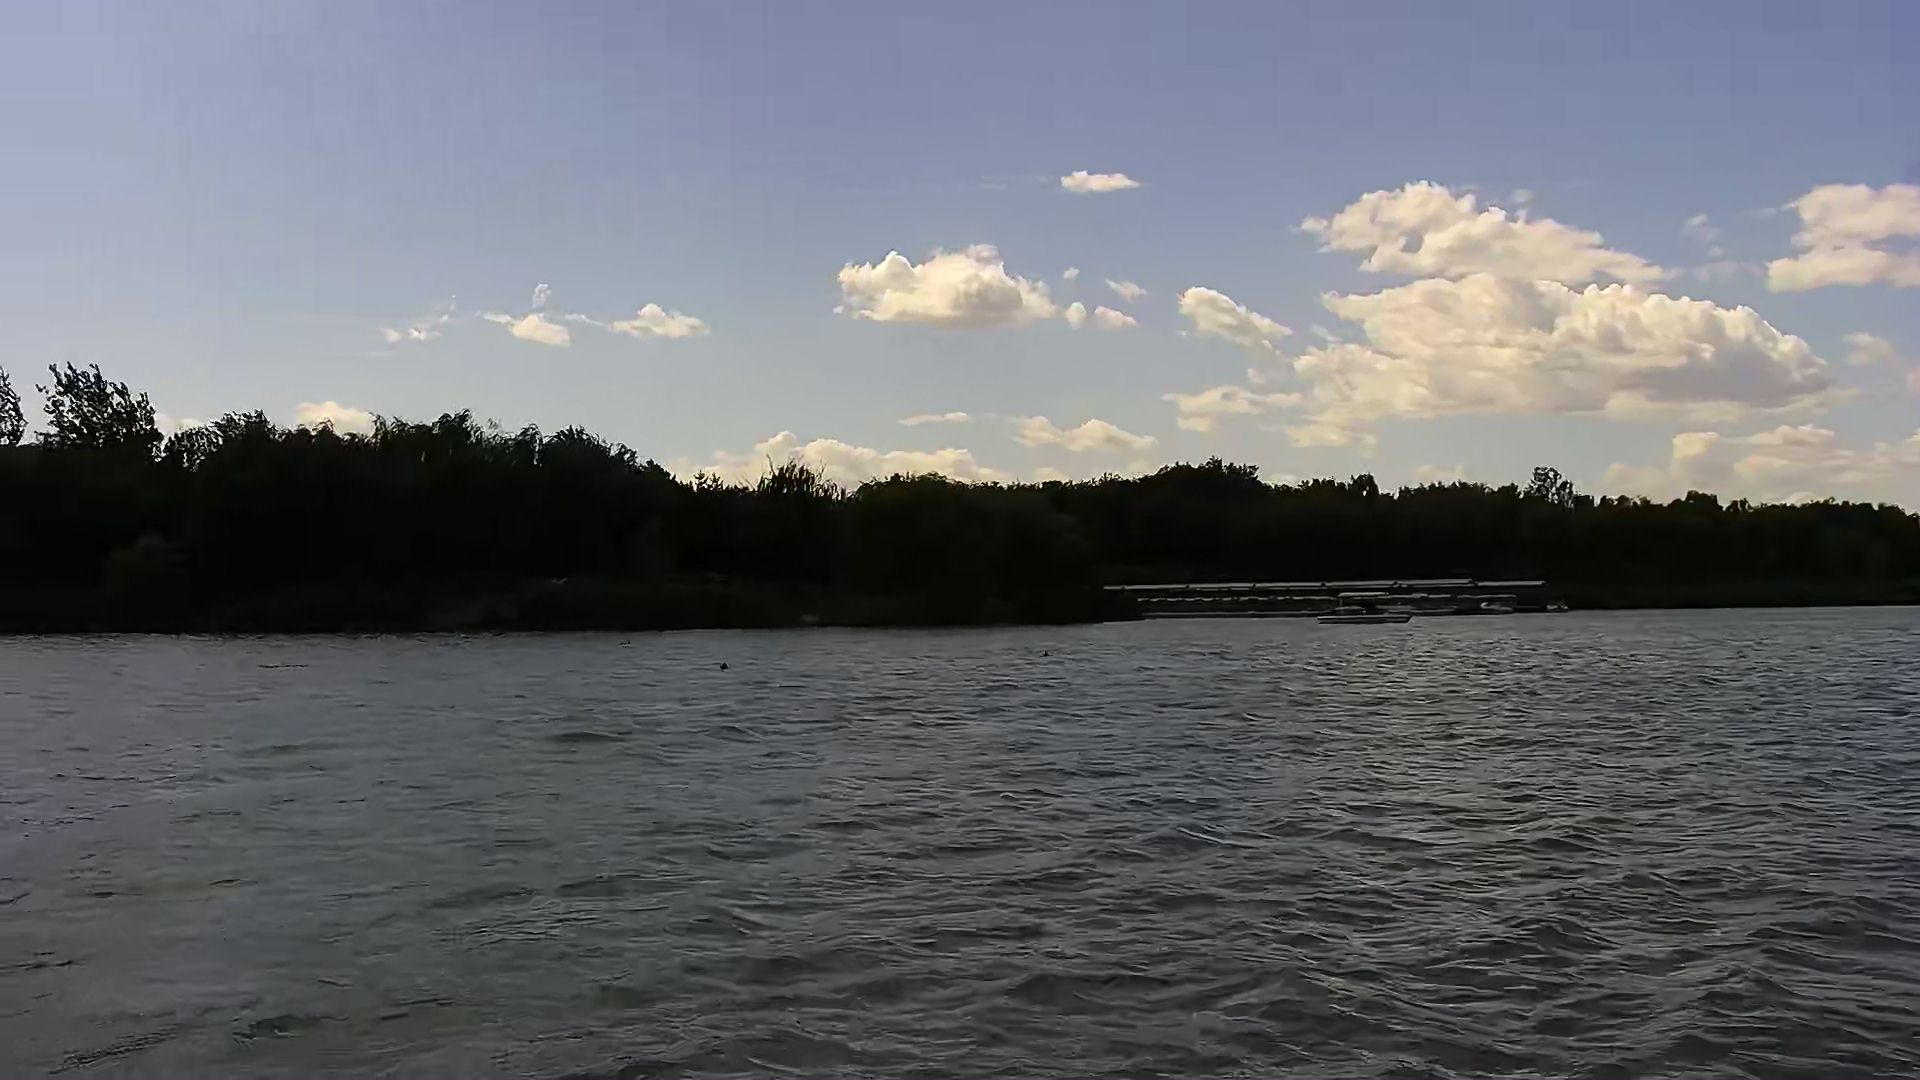boat: (1313, 587, 1415, 622)
harbor: (1106, 572, 1553, 622)
